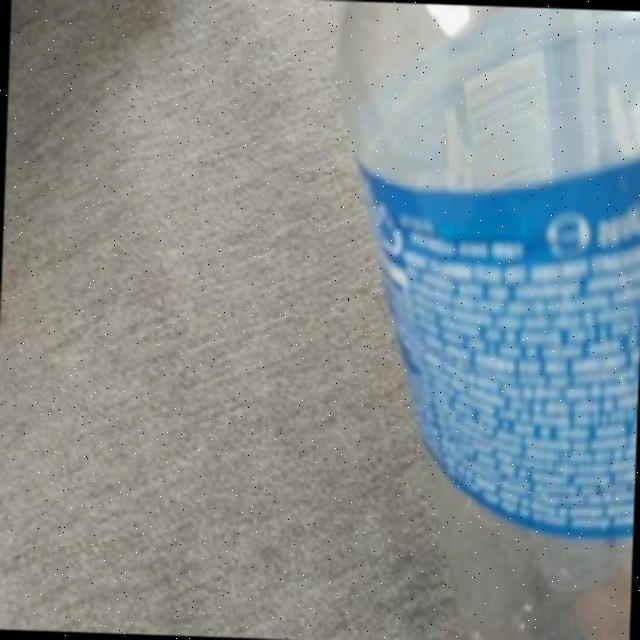bottle: (308, 0, 640, 640)
label: (335, 139, 640, 546)
